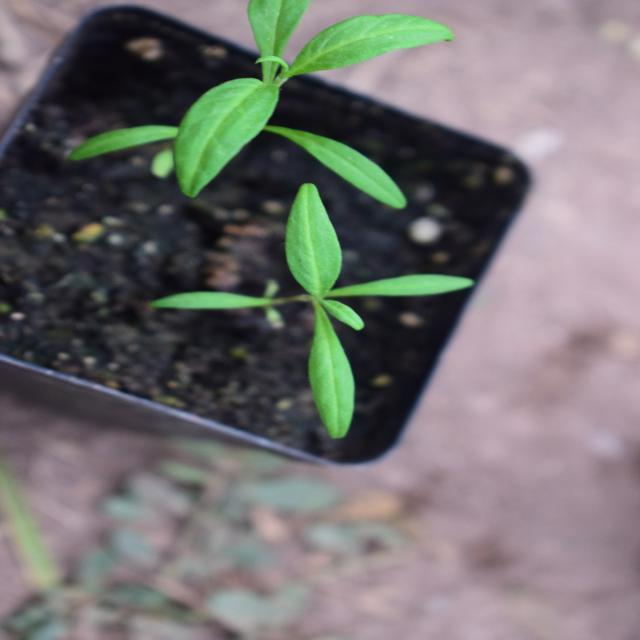white_smart_weed: (0, 165, 206, 561), (182, 156, 442, 441)
